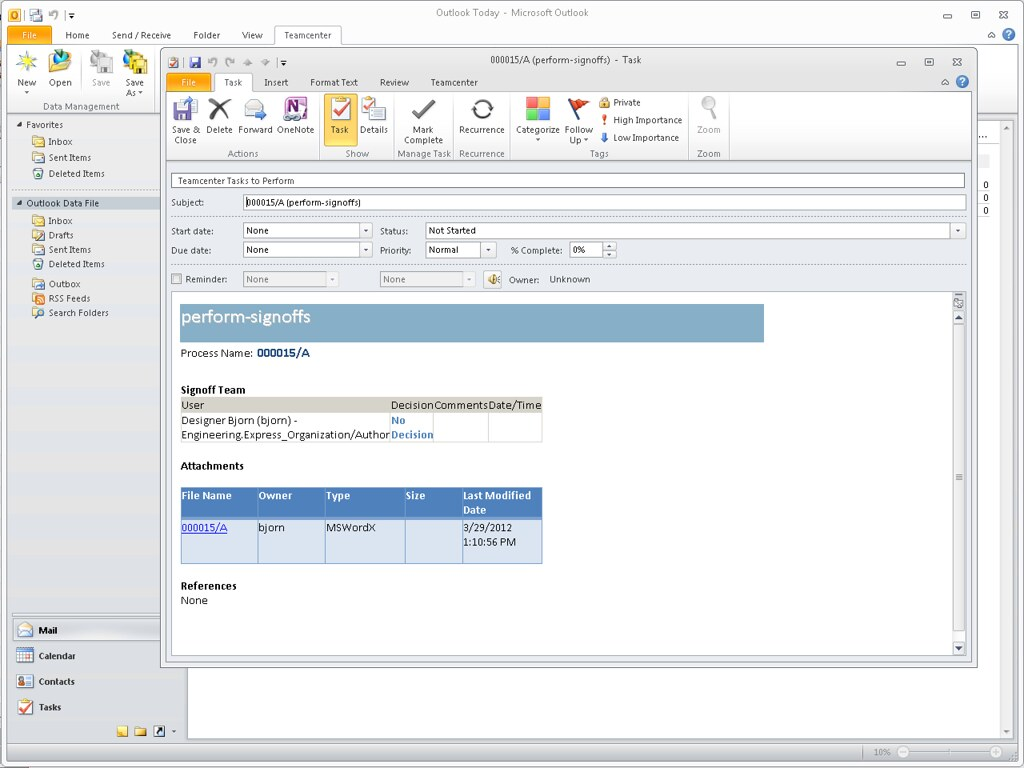button: (954, 324, 967, 630), (12, 618, 160, 640), (513, 94, 562, 148), (562, 94, 596, 147), (324, 93, 358, 146), (404, 99, 443, 144), (459, 98, 505, 135), (690, 93, 728, 135), (276, 95, 314, 134), (273, 25, 343, 45), (358, 93, 391, 135), (171, 96, 199, 144), (237, 97, 273, 134), (120, 48, 147, 97), (597, 111, 684, 126), (597, 129, 681, 144), (13, 645, 78, 664), (46, 48, 75, 89), (87, 49, 115, 89), (14, 49, 38, 94), (31, 165, 105, 179), (31, 256, 105, 270), (205, 96, 232, 134), (6, 25, 53, 45), (32, 306, 109, 318), (31, 149, 92, 164), (108, 27, 173, 41), (166, 72, 211, 92), (15, 673, 75, 688), (31, 242, 91, 256), (32, 290, 91, 304), (16, 698, 63, 715), (214, 73, 253, 92), (597, 94, 642, 110), (182, 521, 229, 535), (31, 227, 74, 241), (31, 278, 81, 290), (430, 76, 478, 88), (30, 134, 74, 147), (31, 214, 73, 226), (309, 78, 358, 88), (62, 28, 93, 42), (190, 28, 221, 41), (482, 269, 502, 288), (237, 28, 265, 41), (378, 77, 410, 87), (262, 77, 288, 87), (950, 221, 965, 238), (481, 242, 496, 258), (359, 222, 373, 238), (462, 271, 476, 287), (1001, 26, 1015, 41), (921, 53, 935, 68), (955, 73, 969, 88), (988, 744, 1002, 759), (7, 8, 21, 22), (28, 8, 42, 22), (46, 8, 60, 22), (152, 724, 166, 738), (952, 296, 966, 310), (950, 53, 963, 68), (894, 53, 907, 68), (206, 54, 219, 69), (188, 55, 201, 69), (116, 724, 129, 738), (223, 54, 235, 69), (326, 271, 338, 286), (897, 745, 909, 760), (360, 241, 371, 257), (953, 311, 966, 324), (133, 725, 147, 737), (953, 642, 965, 656), (1001, 121, 1013, 135), (940, 8, 953, 20), (938, 75, 950, 87), (167, 55, 178, 68), (259, 55, 270, 68), (997, 8, 1008, 20), (170, 272, 182, 283), (969, 8, 980, 19), (241, 56, 252, 67), (1001, 725, 1011, 737), (279, 58, 289, 69), (603, 241, 615, 250), (603, 250, 616, 258), (14, 119, 24, 129), (14, 197, 23, 208), (169, 727, 179, 736), (986, 30, 996, 38), (67, 11, 75, 20)
common: (179, 347, 312, 361), (180, 383, 246, 397), (179, 460, 245, 473), (508, 275, 592, 285), (179, 579, 238, 593), (510, 243, 564, 257), (25, 198, 99, 208), (170, 244, 213, 257), (170, 225, 214, 237), (170, 196, 205, 209), (178, 595, 212, 608), (25, 120, 64, 130), (379, 244, 411, 255), (185, 275, 227, 283), (379, 226, 409, 237), (871, 746, 894, 758), (981, 202, 990, 216), (981, 177, 990, 190), (981, 191, 991, 202)
container: (187, 118, 1016, 741), (161, 49, 978, 667), (171, 293, 965, 656), (4, 98, 187, 743), (8, 191, 160, 613), (165, 91, 971, 160), (1, 1, 1024, 46), (166, 160, 971, 214), (176, 455, 546, 567), (160, 45, 976, 91), (167, 217, 970, 263), (4, 740, 1001, 768), (179, 381, 545, 444), (7, 617, 186, 741), (180, 305, 764, 342), (167, 264, 970, 290), (510, 91, 689, 161), (378, 220, 967, 240), (7, 114, 159, 190), (7, 44, 160, 113), (999, 118, 1014, 739), (426, 222, 966, 238), (320, 93, 394, 160), (953, 311, 967, 657), (395, 92, 455, 160), (82, 46, 154, 102), (7, 45, 81, 99), (170, 241, 374, 260), (455, 92, 509, 161), (169, 222, 375, 239), (690, 92, 729, 161), (377, 241, 500, 262), (177, 577, 244, 613), (864, 744, 1003, 760), (509, 241, 620, 261), (244, 222, 373, 239), (244, 242, 372, 258), (11, 197, 160, 210), (241, 270, 339, 288), (381, 271, 477, 288), (426, 242, 496, 259), (170, 272, 229, 286), (570, 242, 617, 258), (14, 119, 65, 132), (151, 724, 180, 740)
header: (182, 309, 313, 328), (489, 53, 643, 66), (435, 7, 589, 17), (41, 100, 120, 112), (396, 148, 451, 158), (458, 148, 505, 159), (695, 147, 722, 159), (344, 148, 371, 159), (587, 147, 611, 159)
table: (179, 484, 545, 565), (183, 398, 542, 440)
table-cell: (182, 413, 390, 441), (463, 518, 542, 563), (326, 519, 404, 563), (182, 520, 257, 564), (258, 519, 324, 563), (181, 398, 390, 411), (405, 518, 462, 563), (463, 487, 541, 519), (182, 489, 257, 518), (326, 489, 403, 517), (258, 489, 324, 518), (404, 489, 462, 518), (488, 412, 541, 441), (433, 413, 487, 441), (391, 413, 432, 441), (432, 398, 488, 412), (488, 398, 541, 412), (391, 398, 432, 412)
table-row: (180, 518, 543, 564), (180, 486, 542, 519), (182, 412, 541, 441), (181, 398, 541, 411)
text-input: (243, 193, 964, 209), (171, 172, 964, 186), (426, 222, 949, 238), (243, 222, 359, 238), (243, 241, 359, 257), (241, 270, 325, 286), (380, 271, 462, 286), (426, 242, 481, 258), (569, 242, 602, 257)
